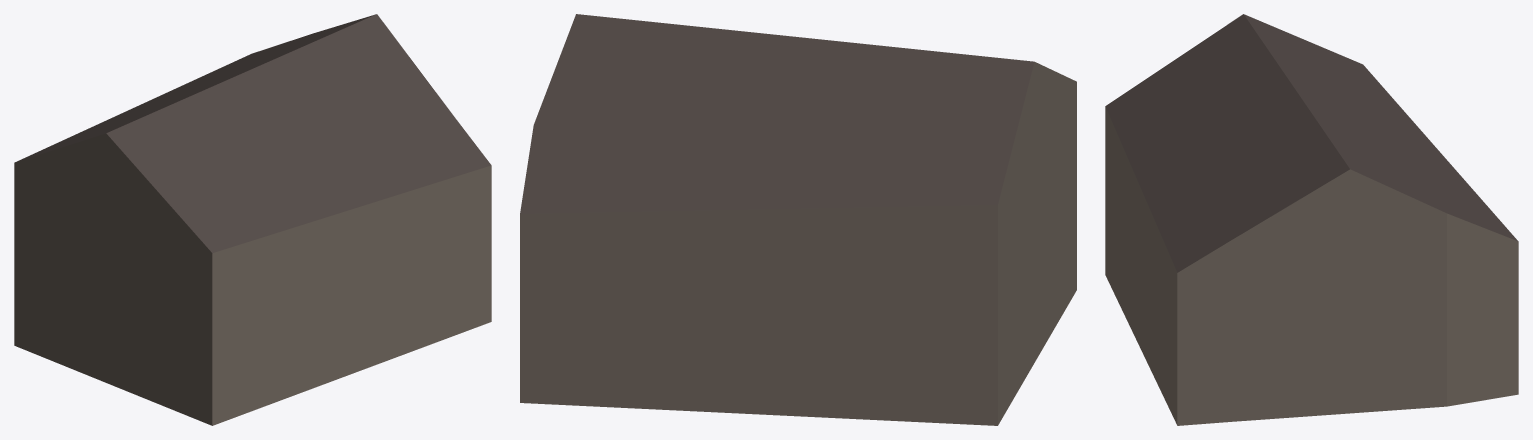
3 renders of one model, left to right at view 1: azimuth 30°, elevation 25°; view 2: azimuth 150°, elevation 25°; view 3: azimuth 270°, elevation 25°, orthographic. The views are drawn at different scales.
Parts seen in each view (by area): view 1: HP-w1198842235; view 2: HP-w1198842235; view 3: HP-w1198842235.
Boxes of the visible parts, x1,y1,x2,y2 form: HP-w1198842235: (14,14,491,425); HP-w1198842235: (520,14,1076,425); HP-w1198842235: (1105,14,1518,425).
Bounding box in the file's own units: 15.34 × 9.57 × 14.68.
